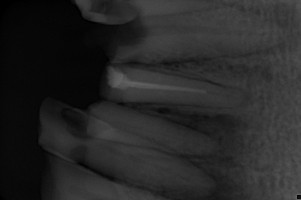Furcation Involvement: (146, 105, 247, 199)
